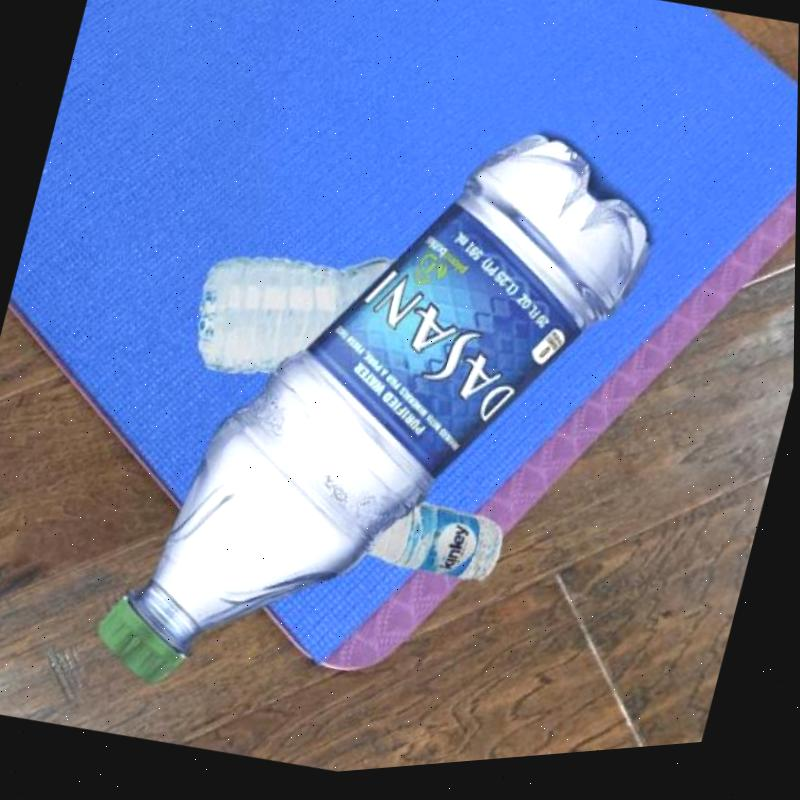botella: (80, 53, 679, 788), (181, 220, 405, 416), (365, 488, 512, 602)
